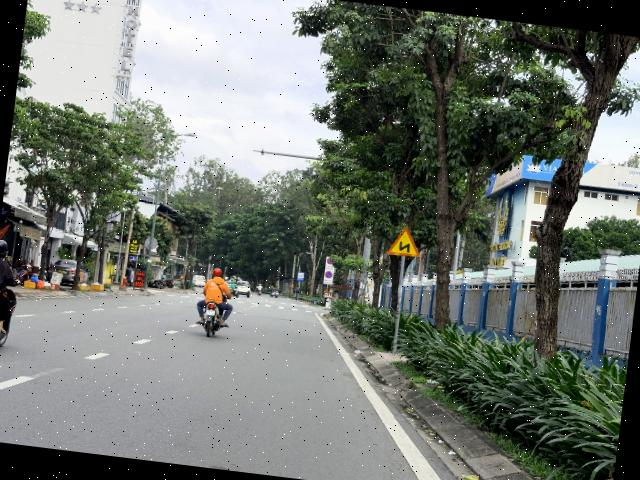nhieu-cho-ngoat-nguy-hiem-lien-tiep: (386, 225, 422, 258)
